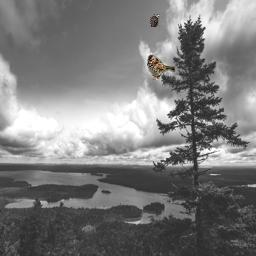Cuckoo: (150, 14, 160, 27)
Sparrow: (147, 54, 175, 80)
